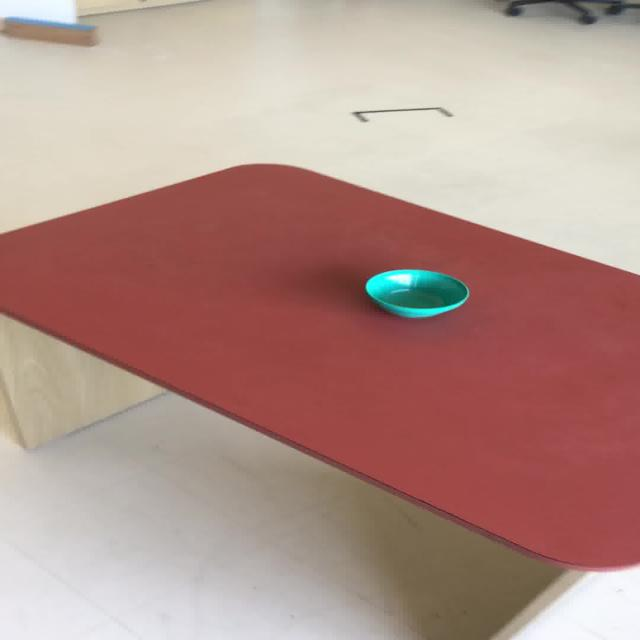bowl: (363, 268, 469, 318)
